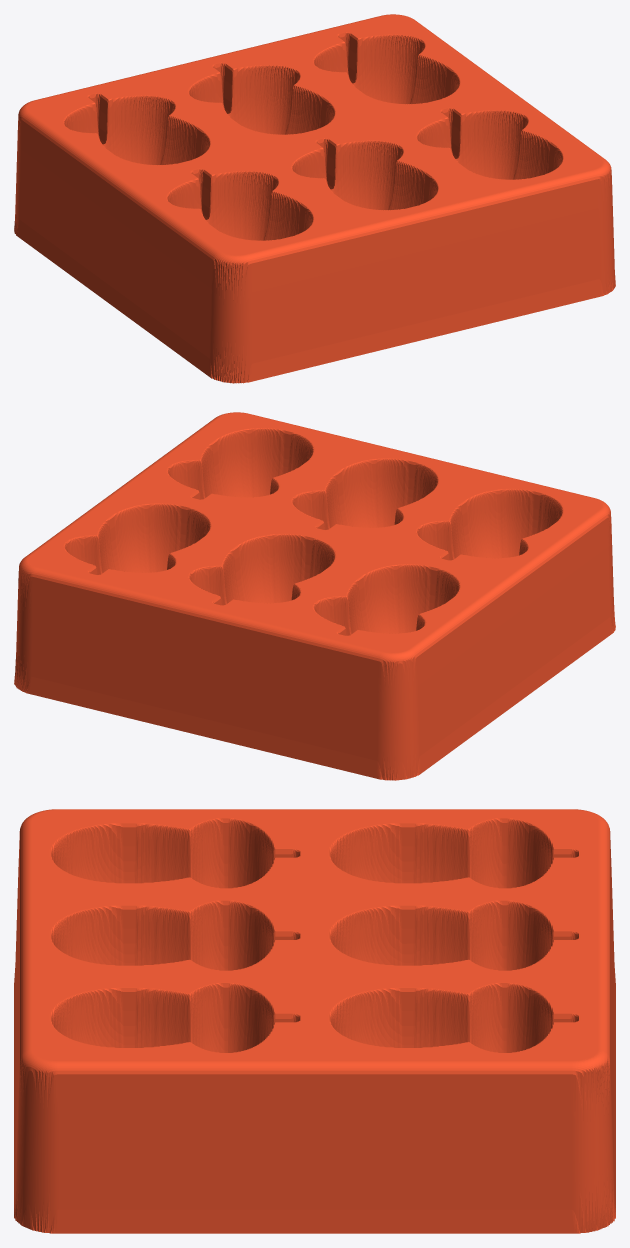
File: mold.glb
3 views of the same model, one above another, from view 1: azimuth 30°, elevation 25°; view 2: azimuth 150°, elevation 25°; view 3: azimuth 270°, elevation 25° (orthographic). The views are drawn at different scales.
Visible parts, largest first — view 1: geometry_0; view 2: geometry_0; view 3: geometry_0.
Part boxes in pixels (left/top/right/bottom): geometry_0: left=14, top=14, right=615, bottom=383; geometry_0: left=14, top=412, right=615, bottom=780; geometry_0: left=14, top=809, right=615, bottom=1233.
Bounding box in the file's own units: 0.1301 × 0.0377 × 0.1246.
